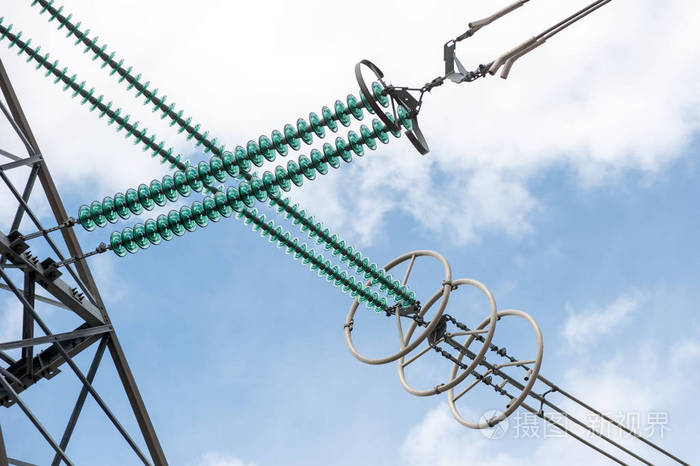insulator: (12, 1, 418, 316), (77, 83, 412, 254)
